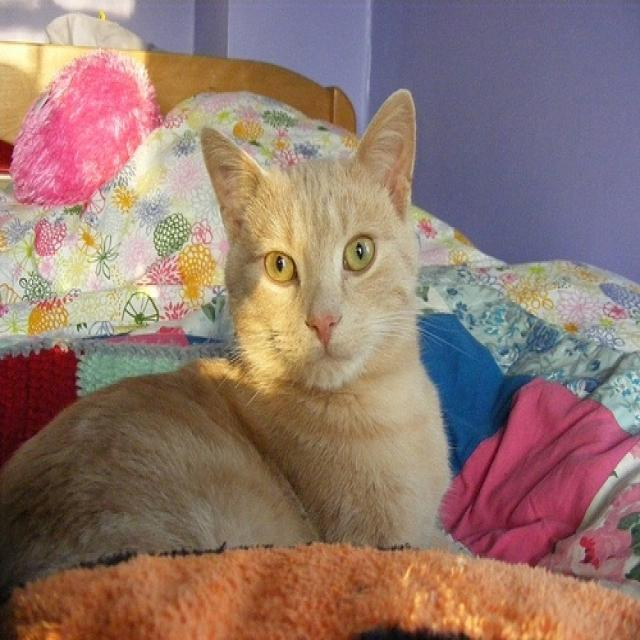cat: (0, 63, 487, 573)
